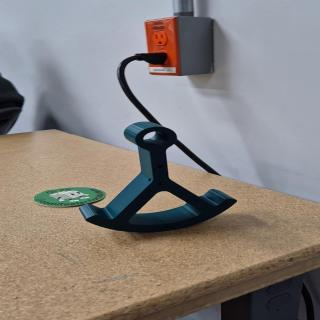haptic: (78, 121, 238, 233)
